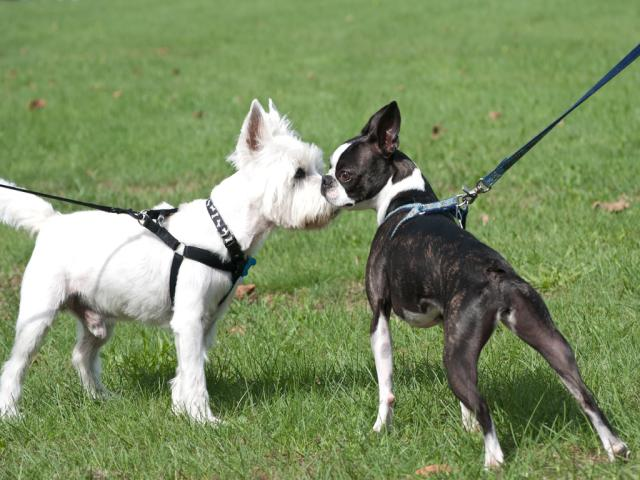Dog: (318, 95, 630, 471), (0, 95, 342, 429)
